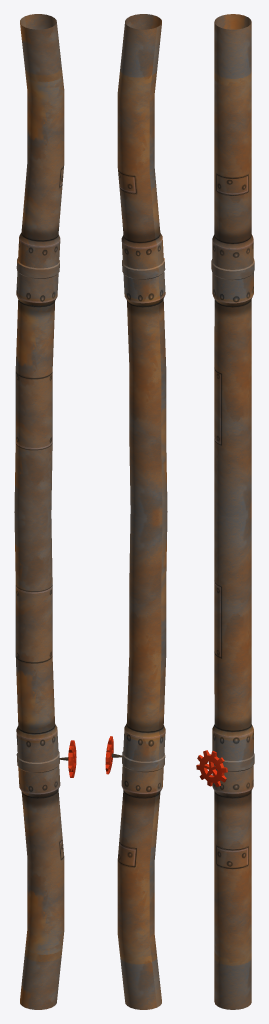
File: prop_FG02.fbx
The picture shows the model from 3 angles, left to right: view 1: azimuth 30°, elevation 25°; view 2: azimuth 210°, elevation 25°; view 3: azimuth 270°, elevation 25°; orthographic projection.
Visible parts, largest first — view 1: polySurface9; view 2: polySurface9; view 3: polySurface9.
Part boxes in pixels (x1,y1,x2,y2): polySurface9: [14, 14, 76, 1009]; polySurface9: [105, 14, 167, 1009]; polySurface9: [196, 14, 254, 1009].
Size of the model in its own units: 1.93 by 32.41 by 1.75.
